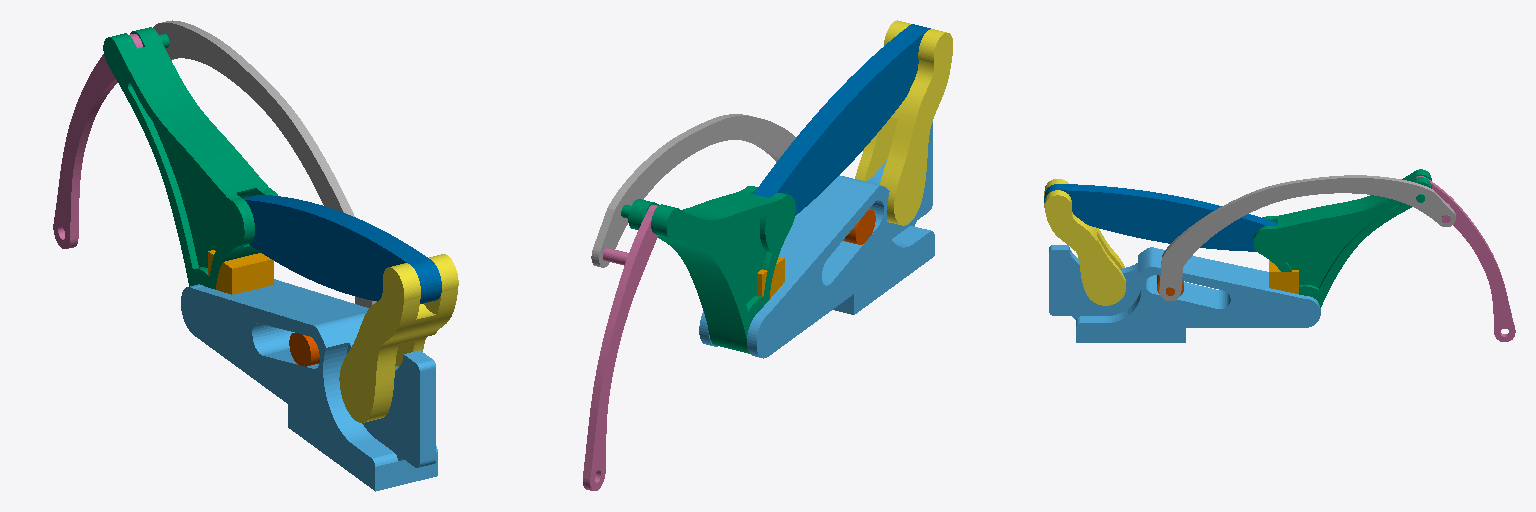
robot.urdf — urdf_assembly:
<?xml version='1.0' encoding='utf-8'?>

<!-- Sostituire i joint continuos con revolute e limiti finti-->

<robot name="urdf_assembly">

    <link name="base_link">
        <visual>
            <origin xyz="0 0 0" rpy="0 0 0"/>
            <geometry>
                <box size="0.01 0.01 0.01"/>
            </geometry>
        </visual>
    </link> 
    
    <link name="body">
        <inertial>
            <origin xyz="0.0 -0.036 -0.0082" rpy="0.0 0.0 0.0" />
            <mass value="0.1223" />
            <inertia ixx="5.91121e-05" iyy="7.75083e-06" izz="5.56796e-05" ixy="-8.991e-12" iyz="-1.287e-06" ixz="-1.43744e-12" />
        </inertial>
        <visual name="body_visual">
            <origin xyz="0.0 0.0 0.0" rpy="0.0 0.0 0.0" />
            <geometry>
                <mesh filename="package://exoskeleton_description/meshes/body.stl" scale="0.001 0.001 0.001" />
            </geometry>
        </visual>
        <collision name="body_collision">
            <origin xyz="0.0 0.0 0.0" rpy="0.0 0.0 0.0" />
            <geometry>
                <mesh filename="package://exoskeleton_description/meshes/body.stl" scale="0.001 0.001 0.001" />
            </geometry>
        </collision>
    </link>

    <link name="link_AC">
        <inertial>
            <origin xyz="0.0222 -0.008172 0.0" rpy="0.0 0.0 0.0" />
            <mass value="0.06234" />
            <inertia ixx="1.15274e-05" iyy="9.5782e-06" izz="2.01595e-05" ixy="6.5499e-06" iyz="7.12e-08" ixz="-4.923e-08" />
        </inertial>
        <visual name="link_AC_visual">
            <origin xyz="0.007356 0.008556 0.0" rpy="-2.9131 -1.5708 0.0" />
            <geometry>
                <mesh filename="package://exoskeleton_description/meshes/link_AC.stl" scale="0.001 0.001 0.001" />
            </geometry>
        </visual>
        <collision name="link_AC_collision">
            <origin xyz="0.007356 0.008556 0.0" rpy="-2.9131 -1.5708 0.0" />
            <geometry>
                <mesh filename="package://exoskeleton_description/meshes/link_AC.stl" scale="0.001 0.001 0.001" />
            </geometry>
        </collision>
    </link>

    <link name="rear_crank">
        <inertial>
            <origin xyz="0.01361 0.007049 -0.000762" rpy="0.0 0.0 0.0" />
            <mass value="0.02908" />
            <inertia ixx="1.70292e-06" iyy="3.98339e-06" izz="4.76408e-06" ixy="-1.7956e-06" iyz="-1.13744e-07" ixz="-2.04e-07" />
        </inertial>
        <visual name="rear_crank_visual">
            <origin xyz="0.0171 -0.0588 0.0" rpy="-2.8798 -1.5708 0.0" />
            <geometry>
                <mesh filename="package://exoskeleton_description/meshes/rear_crank.stl" scale="0.001 0.001 0.001" />
            </geometry>
        </visual>
        <collision name="rear_crank_collision">
            <origin xyz="0.0171 -0.0588 0.0" rpy="-2.8798 -1.5708 0.0" />
            <geometry>
                <mesh filename="package://exoskeleton_description/meshes/rear_crank.stl" scale="0.001 0.001 0.001" />
            </geometry>
        </collision>
    </link>

    <link name="connecting_rod">
        <inertial>
            <origin xyz="-0.006793 -0.03467 0.0" rpy="0.0 0.0 0.0" />
            <mass value="0.03844" />
            <inertia ixx="1.55767e-05" iyy="1.21347e-06" izz="1.663e-05" ixy="-2.90187e-06" iyz="0.0" ixz="0.0" />
        </inertial>
        <visual name="connecting_rod_visual">
            <origin xyz="-0.03087 -0.06882 0.0" rpy="-3.132 -1.5708 0.0" />
            <geometry>
                <mesh filename="package://exoskeleton_description/meshes/connecting_rod.stl" scale="0.001 0.001 0.001" />
            </geometry>
        </visual>
        <collision name="connecting_rod_collision">
            <origin xyz="-0.03087 -0.06882 0.0" rpy="-3.132 -1.5708 0.0" />
            <geometry>
                <mesh filename="package://exoskeleton_description/meshes/connecting_rod.stl" scale="0.001 0.001 0.001" />
            </geometry>
        </collision>
    </link>

    <link name="slider_f">
        <inertial>
            <origin xyz="0.0002343 0.006014 0.00348" rpy="0.0 0.0 0.0" />
            <mass value="0.006394" />
            <inertia ixx="5.42365e-08" iyy="1.50739e-07" izz="1.63551e-07" ixy="0.0" iyz="0.0" ixz="0.0" />
        </inertial>
        <visual name="slider_f_visual">
            <origin xyz="-0.0075 -0.0215 -0.005257" rpy="-2.8947 0.0 0.0" />
            <geometry>
                <mesh filename="package://exoskeleton_description/meshes/slider_f.stl" scale="0.001 0.001 0.001" />
            </geometry>
        </visual>
        <collision name="slider_f_collision">
            <origin xyz="-0.0075 -0.0215 -0.005257" rpy="-2.8947 0.0 0.0" />
            <geometry>
                <mesh filename="package://exoskeleton_description/meshes/slider_f.stl" scale="0.001 0.001 0.001" />
            </geometry>
        </collision>
    </link>

    <link name="link_CE">
        <inertial>
            <origin xyz="-0.02316 -0.0166 0.000506" rpy="0.0 0.0 0.0" />
            <mass value="0.005995" />
            <inertia ixx="5.16e-07" iyy="1.80331e-06" izz="2.27595e-06" ixy="-8.82461e-07" iyz="-2.50712e-08" ixz="-4.76815e-08" />
        </inertial>
        <visual name="link_CE_visual">
            <origin xyz="-0.03204 0.04956 -0.001" rpy="-2.9908 -1.5708 0.0" />
            <geometry>
                <mesh filename="package://exoskeleton_description/meshes/link_CE.stl" scale="0.001 0.001 0.001" />
            </geometry>
        </visual>
        <collision name="link_CE_collision">
            <origin xyz="-0.03204 0.04956 -0.001" rpy="-2.9908 -1.5708 0.0" />
            <geometry>
                <mesh filename="package://exoskeleton_description/meshes/link_CE.stl" scale="0.001 0.001 0.001" />
            </geometry>
        </collision>
    </link>

    <link name="link_BC">
        <inertial>
            <origin xyz="0.02721 0.03924 0.0" rpy="0.0 0.0 0.0" />
            <mass value="0.01155" />
            <inertia ixx="1.10976e-05" iyy="1.53689e-06" izz="1.26268e-05" ixy="-2.99251e-06" iyz="0.0" ixz="0.0" />
        </inertial>
        <visual name="link_BC_visual">
            <origin xyz="0.004365 0.03241 0.001" rpy="0.08988 1.5708 0.0" />
            <geometry>
                <mesh filename="package://exoskeleton_description/meshes/link_BC.stl" scale="0.001 0.001 0.001" />
            </geometry>
        </visual>
        <collision name="link_BC_collision">
            <origin xyz="0.004365 0.03241 0.001" rpy="0.08988 1.5708 0.0" />
            <geometry>
                <mesh filename="package://exoskeleton_description/meshes/link_BC.stl" scale="0.001 0.001 0.001" />
            </geometry>
        </collision>
    </link>


<!--   JOINTS  -->


    <joint name="rev_crank" type="revolute">
        <origin xyz="0.0 -0.05876 -0.0008932" rpy="-3.1416 -1.5708 0.0" />
        <parent link="body" />
        <child link="rear_crank" />
        <axis xyz="0.0 0.0 1.0" />
        <limit lower="-3.1416" upper="3.1416" effort="1000000" velocity="1000000" />
    </joint>

    <joint name="body_fixed" type="fixed">
        <parent link="base_link"/>
        <child link="body"/>
        <origin xyz="0 0 0" rpy="0 0 0"/>
    </joint>

    <joint name="rev_body2linkAC" type="revolute">
        <origin xyz="0.0 0.006701 -0.0089853" rpy="-3.1416 -1.5708 0.0" />
        <parent link="body" />
        <child link="link_AC" />
        <axis xyz="0.0 0.0 1.0" />
        <limit lower="-3.1416" upper="3.1416" effort="1000000" velocity="1000000" />
    </joint>

    <joint name="rev_crank2shaft" type="revolute">
        <origin xyz="0.02981 0.01566 0.0" rpy="0.0 0.0 0.0" />
        <parent link="rear_crank" />
        <child link="connecting_rod" />
        <axis xyz="0.0 0.0 1.0" />
        <limit lower="-3.1416" upper="3.1416" effort="1000000" velocity="1000000" />
    </joint>

    <joint name="slider" type="prismatic">
        <origin xyz="0.0 -0.03077 0.002082" rpy="2.8861 0.0 0.0" />
        <parent link="body" />
        <child link="slider_f" />
        <axis xyz="0.0 1.0 0.0" />
        <limit lower="-0.0095" upper="0.0095" effort="1000000" velocity="1000000" />
    </joint>

    <joint name="rev_linkAC2linkCE" type="revolute">
        <origin xyz="0.04298 -0.03828 0.0" rpy="0.0 0.0 0.0" />
        <parent link="link_AC" />
        <child link="link_CE" />
        <axis xyz="0.0 0.0 1.0" />
        <limit lower="-3.1416" upper="3.1416" effort="1000000" velocity="1000000" />
    </joint>

    <joint name="rev_slider2linkBC" type="revolute">
        <origin xyz="0.009 0.006014 0.00348" rpy="-1.5708 1.3153 1.5708" />
        <parent link="slider_f" />
        <child link="link_BC" />
        <axis xyz="0.0 0.0 1.0" />
        <limit lower="-3.1416" upper="3.1416" effort="1000000" velocity="1000000" />
    </joint>   



    <!-- IMPORTANTE: questi vincoli sono eliminati dall'urdf per poter caricare su pinocchio una struttura ad albero (catena cinematica aperta). 
        Per chiudere la catena si impiegano dei vincoli numerici. Tutto nel nodo exo_kniematics_node

    <joint name="rev_linkBC2linkCE" type="revolute">
        <origin xyz="-0.007428 -0.008328 0.0105" rpy="0.0 0.0 0.0" />
        <parent link="link_CE" />
        <child link="link_BC" />
        <axis xyz="0.0 0.0 1.0" />
        <limit lower="-3.1416" upper="3.1416" effort="1000000" velocity="1000000" />
    </joint>

    <joint name="rev_3links" type="revolute">
        <origin xyz="0.0430 -0.03828 0.0105" rpy="0.0 0.0 0.0" />
        <parent link="link_AC" />
        <child link="link_BC" />
        <axis xyz="0.0 0.0 1.0" />
        <limit lower="-3.1416" upper="3.1416" effort="1000000" velocity="1000000" />
    </joint>

    <joint name="rev_shaft2linkAC" type="revolute">
        <origin xyz="0.02446 0.01180 0.0" rpy="0.0 0.0 0.0" />
        <parent link="link_AC" />
        <child link="connecting_rod" />
        <axis xyz="0.0 0.0 1.0" />
        <limit lower="-3.1416" upper="3.1416" effort="1000000" velocity="1000000" />
    </joint>
    -->

</robot>

--- Render facts (derived) ---
Views: 3 orthographic renders of the robot side by side, from view 1: azimuth 30°, elevation 25°; view 2: azimuth 150°, elevation 25°; view 3: azimuth 270°, elevation 25°.
Robot: urdf_assembly — 8 links, 7 joints (5 revolute, 1 prismatic, 1 fixed); root link base_link; default pose: every joint at zero.
Links seen in each view (by area): view 1: body, link_AC, connecting_rod, rear_crank, link_BC, link_CE, base_link, slider_f; view 2: body, link_AC, connecting_rod, rear_crank, link_BC, link_CE, slider_f, base_link; view 3: body, link_AC, connecting_rod, link_BC, rear_crank, link_CE, base_link.
Link boxes in pixels (x1,y1,x2,y2): body: [181, 279, 437, 491]; link_AC: [103, 27, 277, 289]; connecting_rod: [243, 195, 441, 303]; rear_crank: [339, 254, 458, 422]; link_BC: [153, 20, 376, 307]; link_CE: [53, 34, 142, 248]; base_link: [208, 250, 273, 294]; slider_f: [289, 333, 319, 366]; body: [699, 122, 934, 358]; link_AC: [621, 186, 795, 353]; connecting_rod: [754, 24, 930, 215]; rear_crank: [855, 20, 952, 225]; link_BC: [591, 114, 795, 267]; link_CE: [583, 205, 658, 490]; slider_f: [843, 209, 875, 244]; base_link: [757, 257, 784, 298]; body: [1049, 245, 1320, 342]; link_AC: [1254, 169, 1431, 307]; connecting_rod: [1044, 184, 1277, 251]; link_BC: [1159, 175, 1455, 300]; rear_crank: [1044, 179, 1125, 305]; link_CE: [1413, 176, 1515, 341]; base_link: [1269, 260, 1298, 293].
Size in the robot's own frame: 0.018 by 0.155 by 0.064 metres.
Meshes: 7 distinct files referenced, 7 mesh visuals loaded (7 binary STL).
